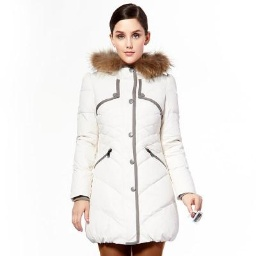face: (102, 2, 160, 68)
